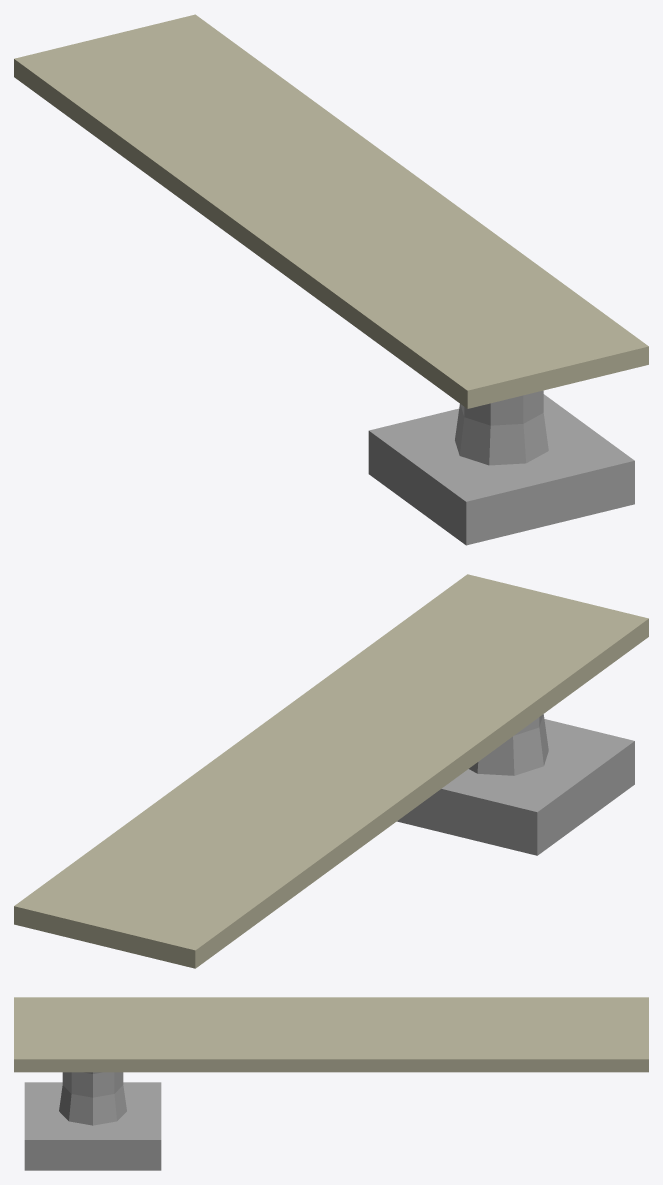
Rendered from Pool_Trap_Grey_vc.fbx.
3 views of the same model, one above another, from view 1: azimuth 30°, elevation 25°; view 2: azimuth 150°, elevation 25°; view 3: azimuth 270°, elevation 25° (orthographic). The views are drawn at different scales.
Parts seen in each view (by area): view 1: Pool_Trap_Grey_vc; view 2: Pool_Trap_Grey_vc; view 3: Pool_Trap_Grey_vc.
Part boxes in pixels (<box>): Pool_Trap_Grey_vc: <box>14,14,648,545</box>; Pool_Trap_Grey_vc: <box>14,574,648,968</box>; Pool_Trap_Grey_vc: <box>14,997,648,1170</box>.
Size of the model in its own units: 104 by 88.35 by 448.
